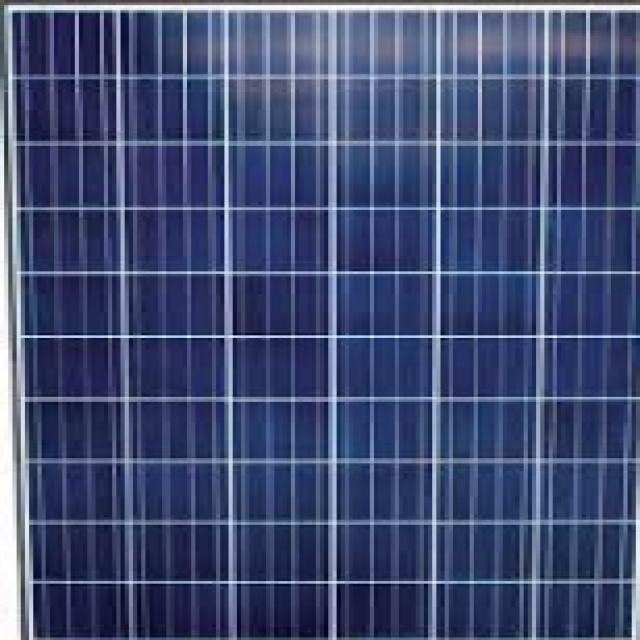clean-solar-panel: (13, 8, 635, 640)
